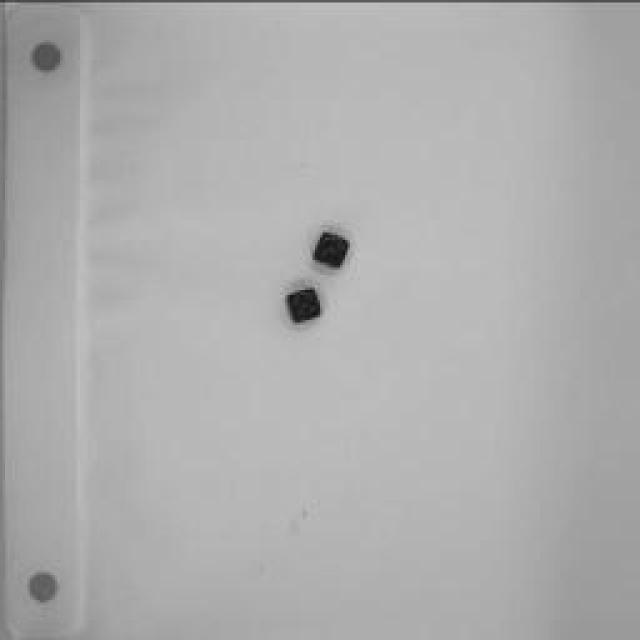dice_3: (312, 229, 350, 271)
dice_5: (283, 286, 325, 326)
